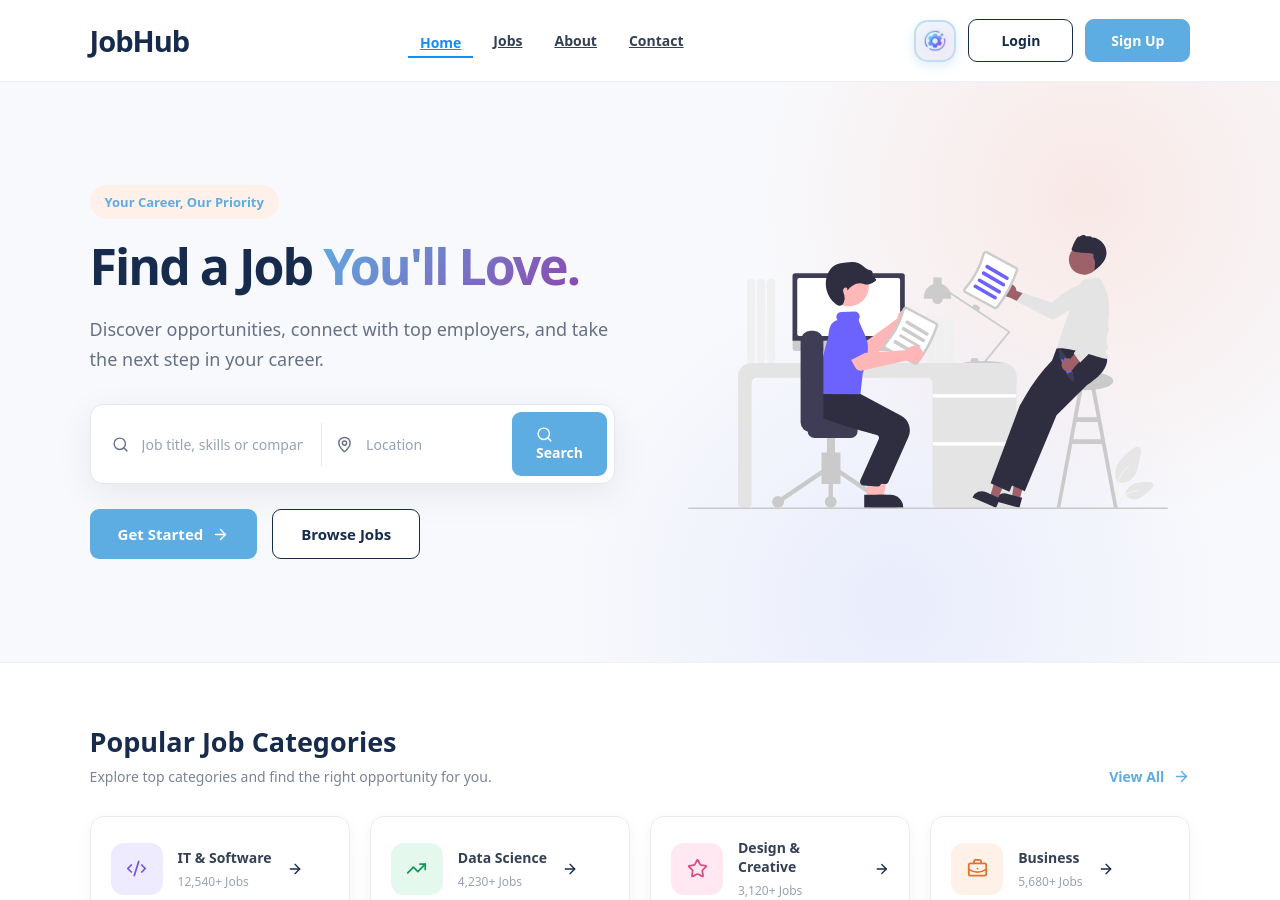
Scenario: Browse Jobs shows the jobs returned by the backend
Click the button "Browse Jobs" at (346, 534), box left=272, top=509, right=420, bottom=559
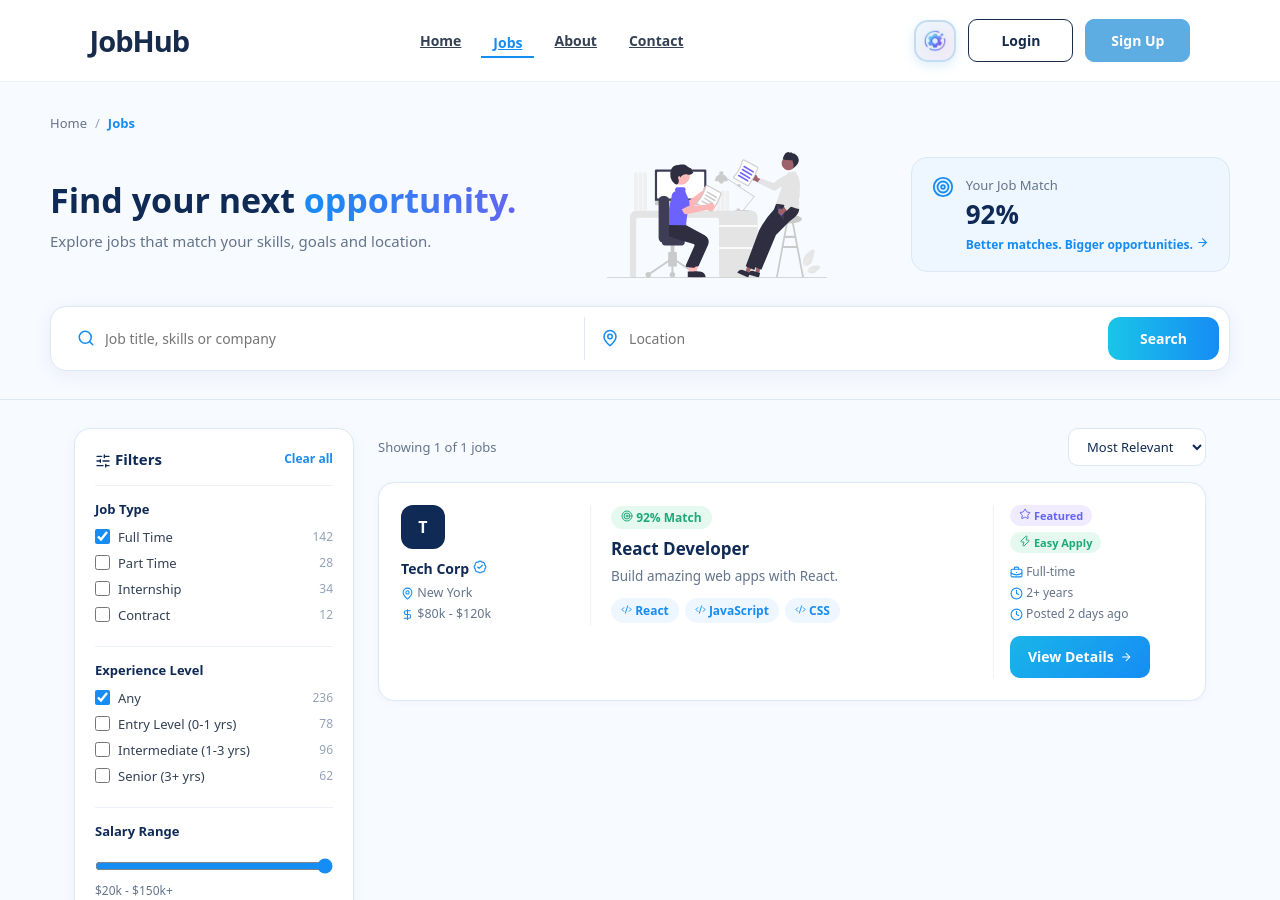
Now the heading "React Developer" is shown, box left=611, top=537, right=749, bottom=560
Now the text "Showing 1 of 1 jobs" is shown, box left=378, top=438, right=497, bottom=456
